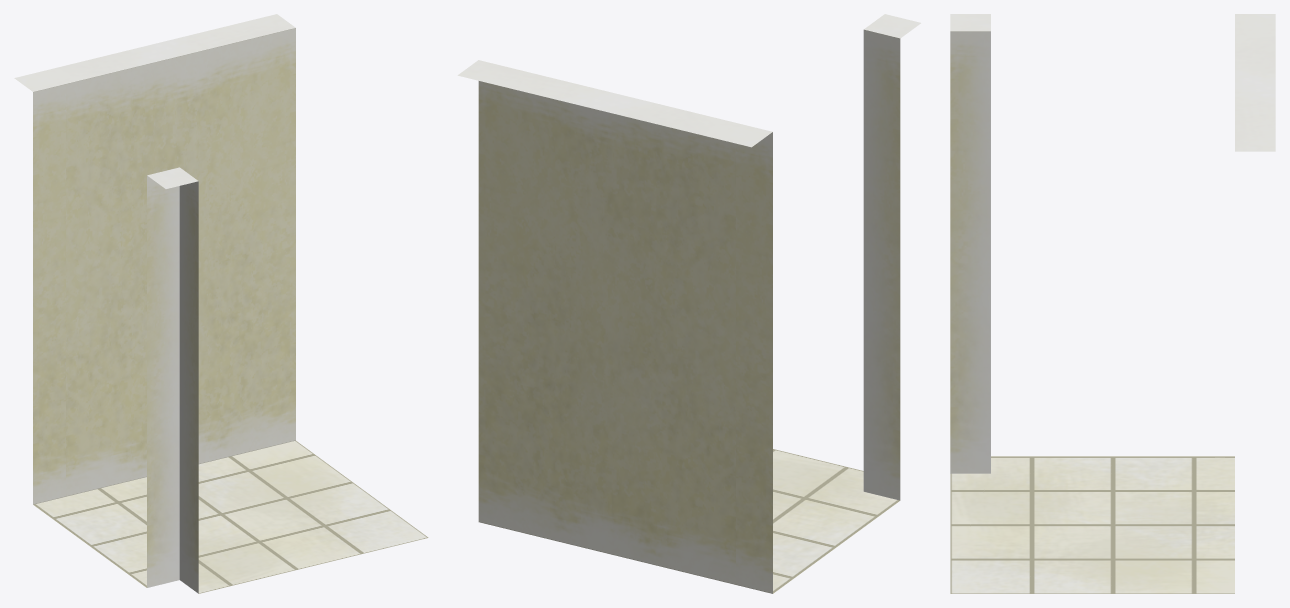
Rendered from maze_3way1columnLeft.FBX.
The picture shows the model from 3 angles, left to right: view 1: azimuth 30°, elevation 25°; view 2: azimuth 150°, elevation 25°; view 3: azimuth 270°, elevation 25°; orthographic projection. The views are drawn at different scales.
Parts seen in each view (by area): view 1: Plane01; view 2: Plane01; view 3: Plane01.
Part boxes in pixels (x1,y1,x2,y2): Plane01: (14, 14, 428, 593); Plane01: (457, 14, 920, 593); Plane01: (950, 14, 1275, 593).
Size of the model in its own units: 32 by 48 by 32.
